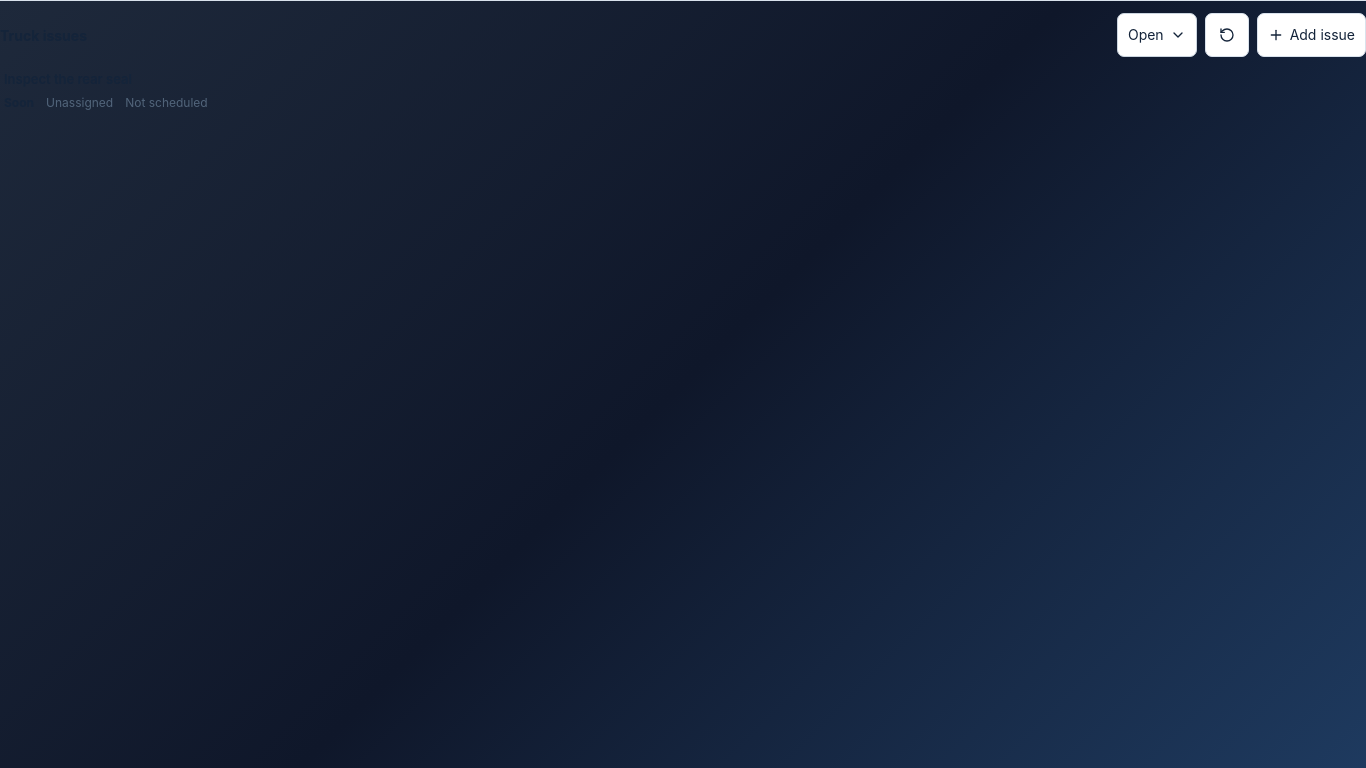
C3 staff truck issues › holds stale version conflicts for explicit reload, never silently overwriting
Step 1. Click the button with aria-label "View truck issue" → [68, 79], box [0,61,1365,120]
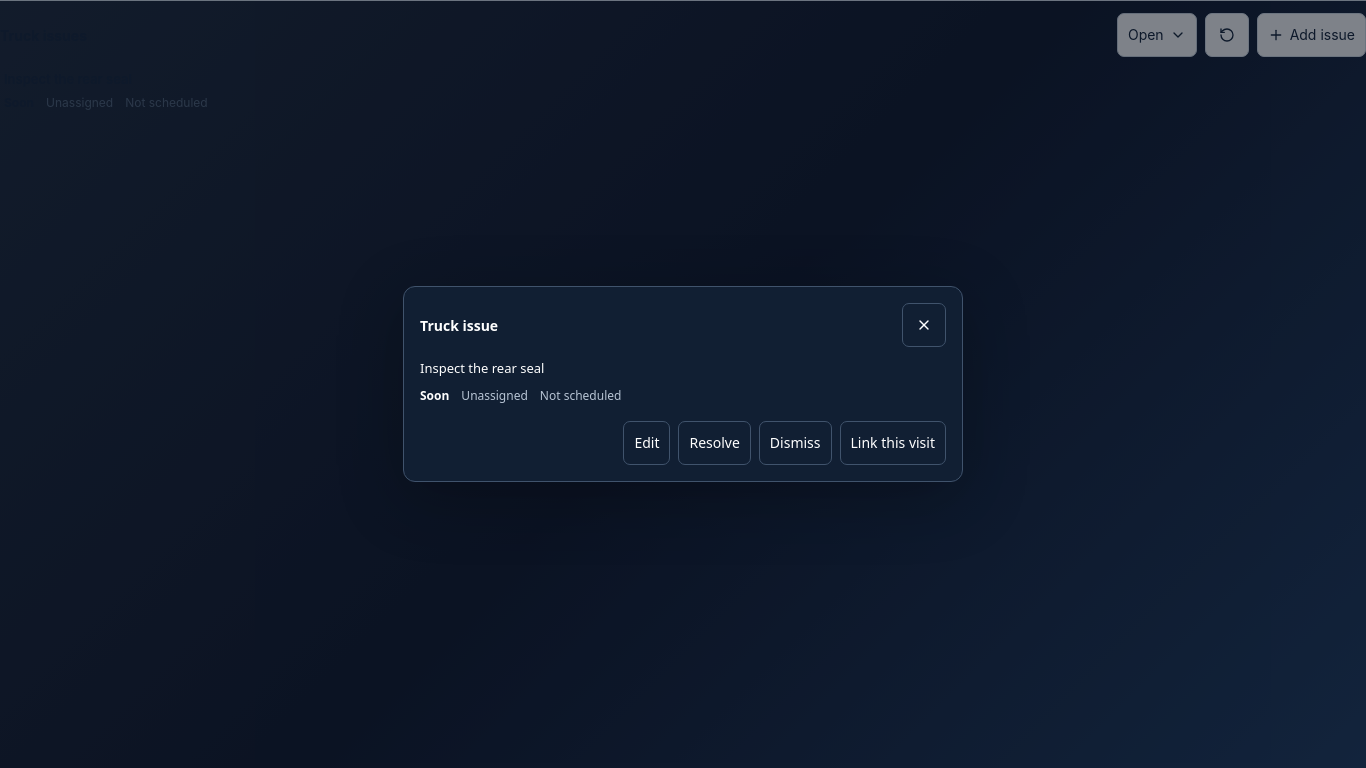
Step 2. Click the button "Edit" → [647, 443], box [623,421,670,465]
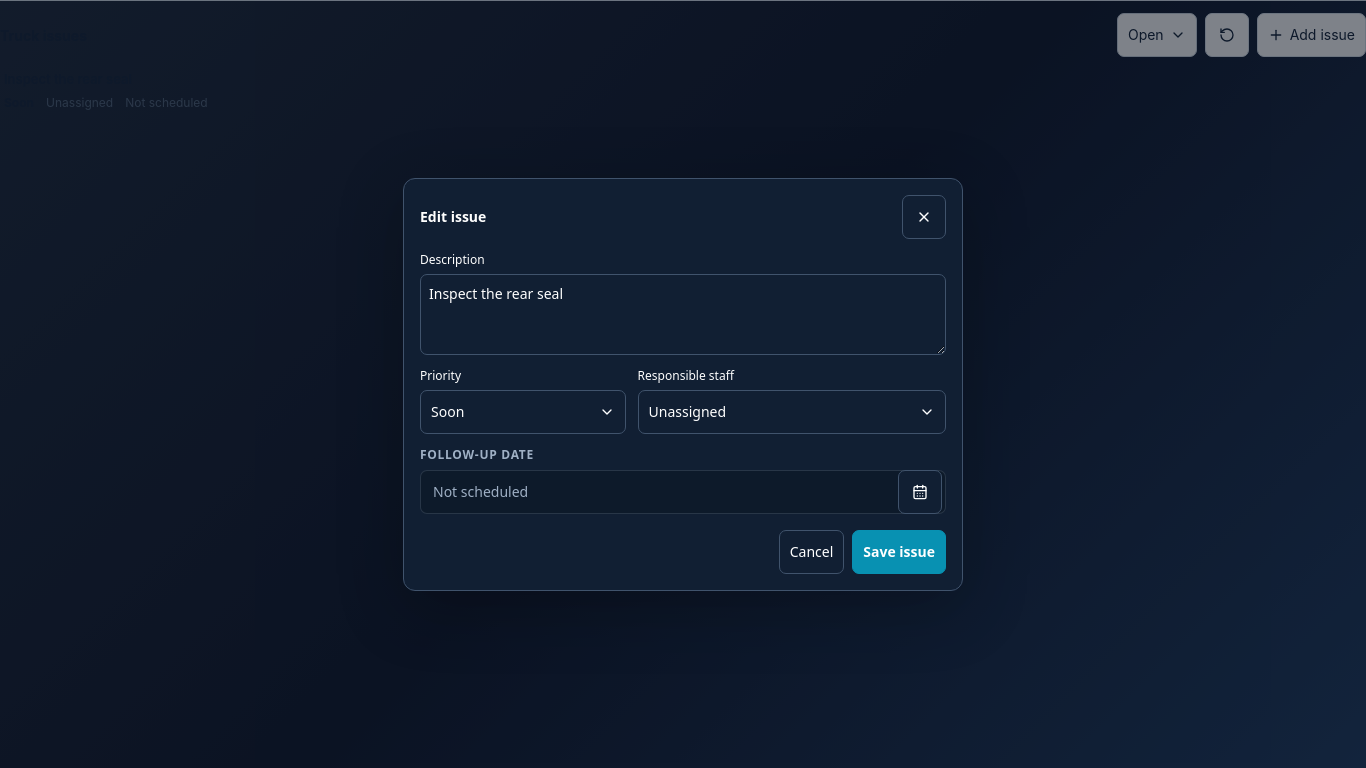
Step 3. Type " more" into the text box labelled "Description" → [683, 314], box [420,274,946,354]
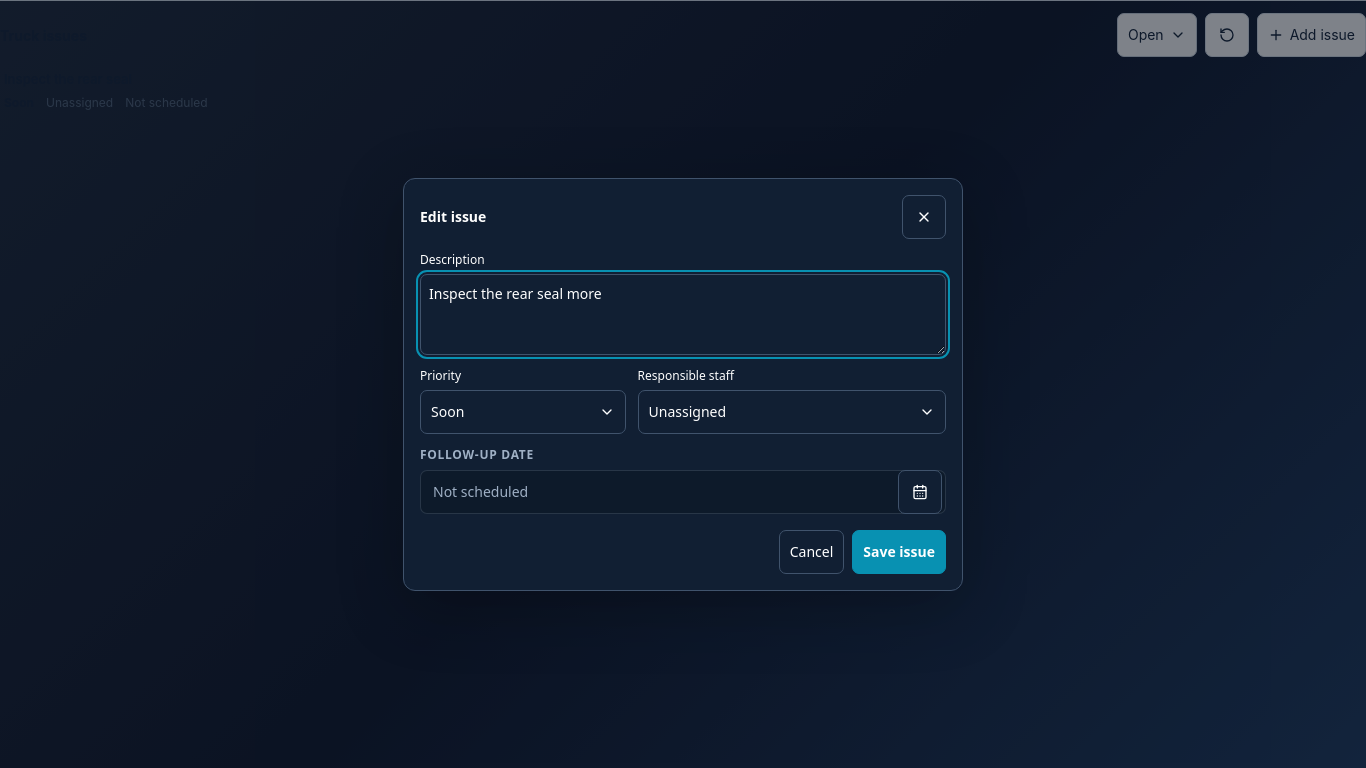
Step 4. Click the button "Save issue" → [899, 552], box [852,530,946,574]
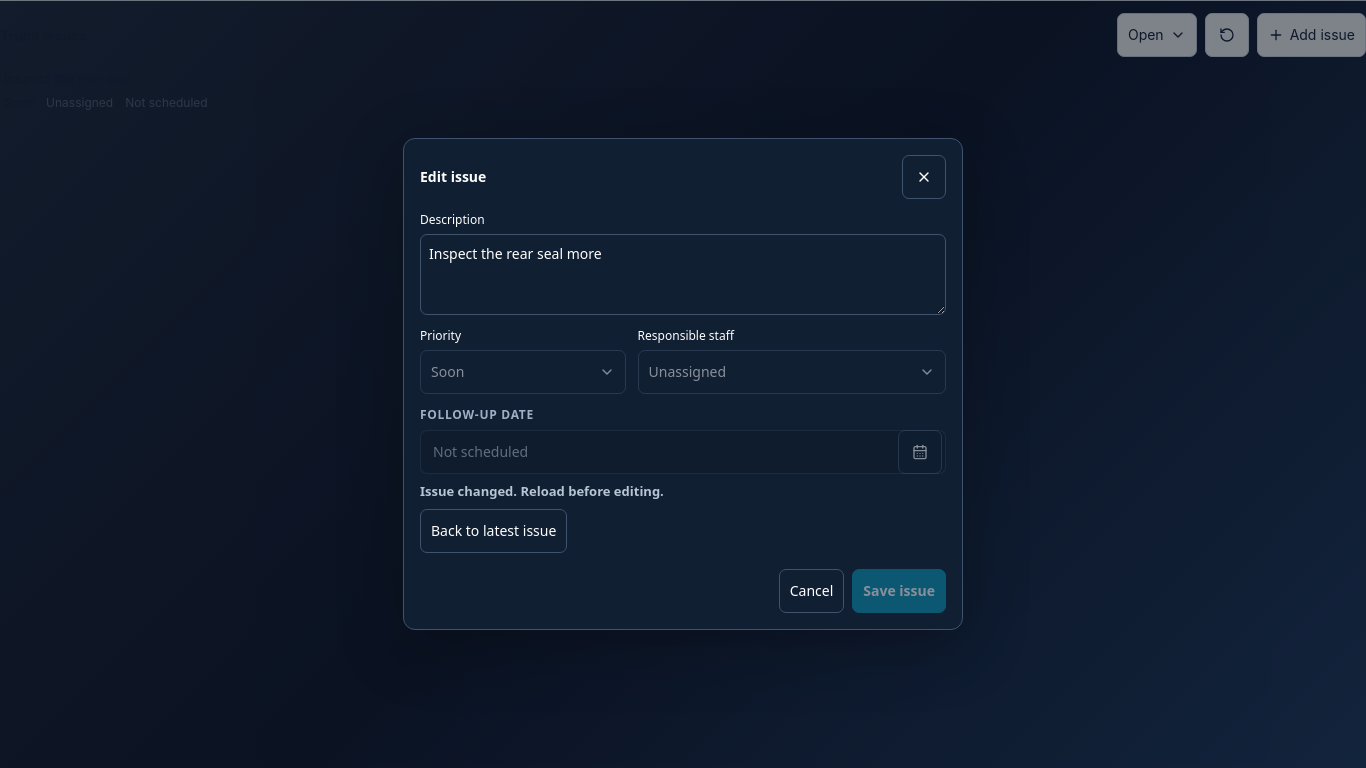
Now the text "Issue changed. Reload before editing." is shown, box [420,482,664,500]
Now the button "Back to latest issue" is shown, box [420,509,567,553]
Now the button "Save issue" is disabled, box [852,569,946,613]
